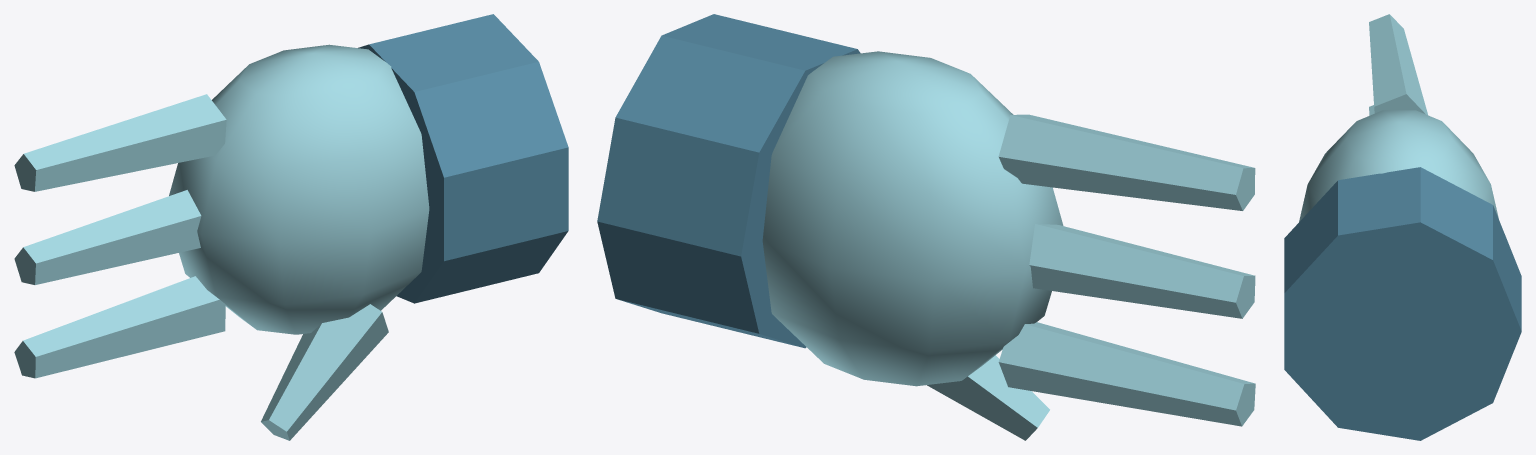
The model's file is hand_l.obj.
3 renders of one model, left to right at view 1: azimuth 30°, elevation 25°; view 2: azimuth 150°, elevation 25°; view 3: azimuth 270°, elevation 25°, orthographic. The views are drawn at different scales.
Visible parts, largest first — view 1: Rounded_glove_palm_L, Blue_wrist_cuff_L, Glove_finger_L_2, Glove_finger_L_0, Glove_finger_L_1, Glove_thumb_L; view 2: Rounded_glove_palm_L, Blue_wrist_cuff_L, Glove_finger_L_2, Glove_finger_L_0, Glove_finger_L_1, Glove_thumb_L; view 3: Blue_wrist_cuff_L, Rounded_glove_palm_L, Glove_finger_L_2.
Boxes of the visible parts, box(x1,y1,x2,y2) form: Rounded_glove_palm_L: box(169, 44, 429, 334); Blue_wrist_cuff_L: box(358, 14, 568, 303); Glove_finger_L_2: box(14, 94, 226, 191); Glove_finger_L_0: box(14, 276, 225, 378); Glove_finger_L_1: box(14, 190, 201, 284); Glove_thumb_L: box(261, 304, 388, 440); Rounded_glove_palm_L: box(762, 51, 1063, 386); Blue_wrist_cuff_L: box(597, 14, 860, 348); Glove_finger_L_2: box(998, 114, 1255, 210); Glove_finger_L_0: box(998, 322, 1255, 426); Glove_finger_L_1: box(1029, 223, 1255, 318); Glove_thumb_L: box(927, 355, 1049, 440); Blue_wrist_cuff_L: box(1284, 167, 1521, 440); Rounded_glove_palm_L: box(1299, 110, 1498, 221); Glove_finger_L_2: box(1369, 14, 1427, 114).
Size of the model in its own units: 0.4311 by 0.2842 by 0.1998.
